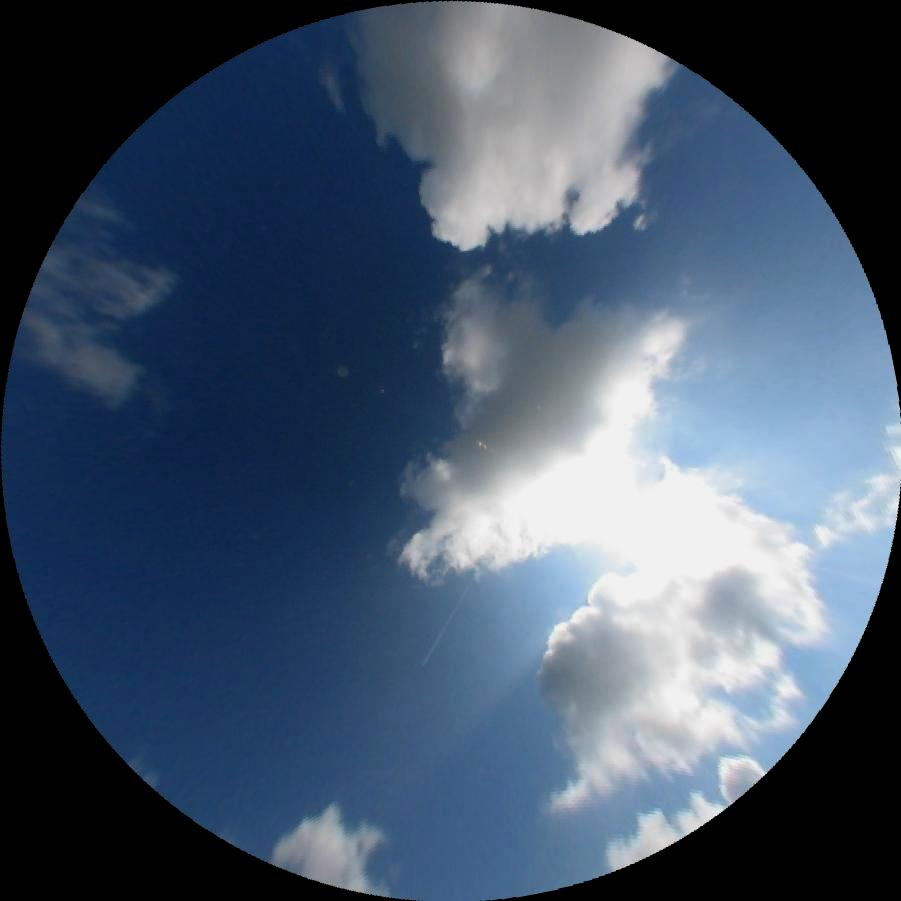contrail young: (420, 575, 474, 667), (364, 768, 388, 775)
